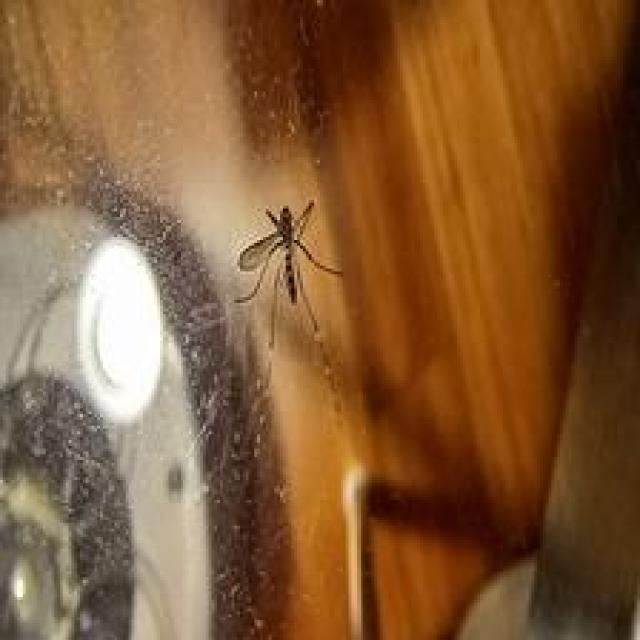Aedes albopictus: (231, 199, 343, 347)
